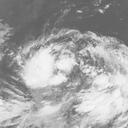cyclone: (18, 48, 59, 89)
